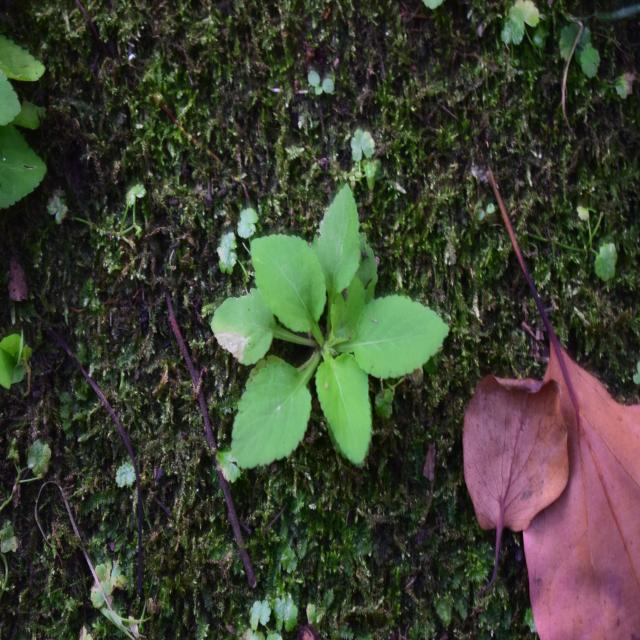Viola: (187, 193, 438, 483)
